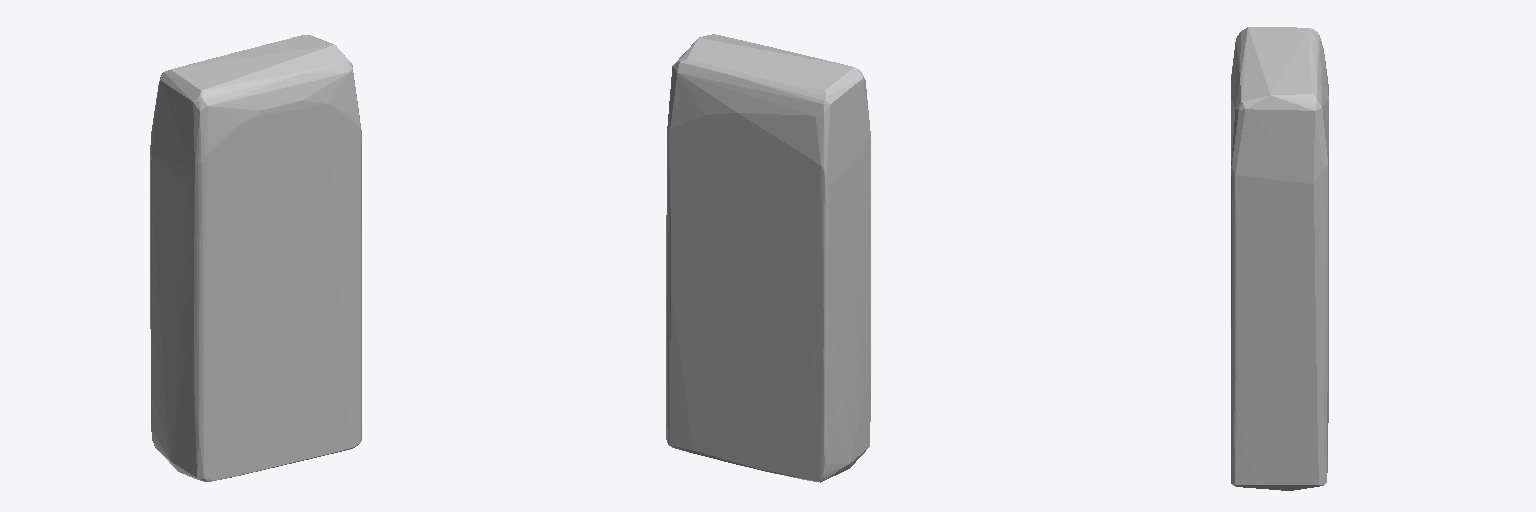
The model's file is eraser_collision.obj.
The picture shows the model from 3 angles: view 1: azimuth 30°, elevation 25°; view 2: azimuth 150°, elevation 25°; view 3: azimuth 270°, elevation 25°; orthographic projection.
Size of the model in its own units: 0.0445 by 0.1 by 0.0228.